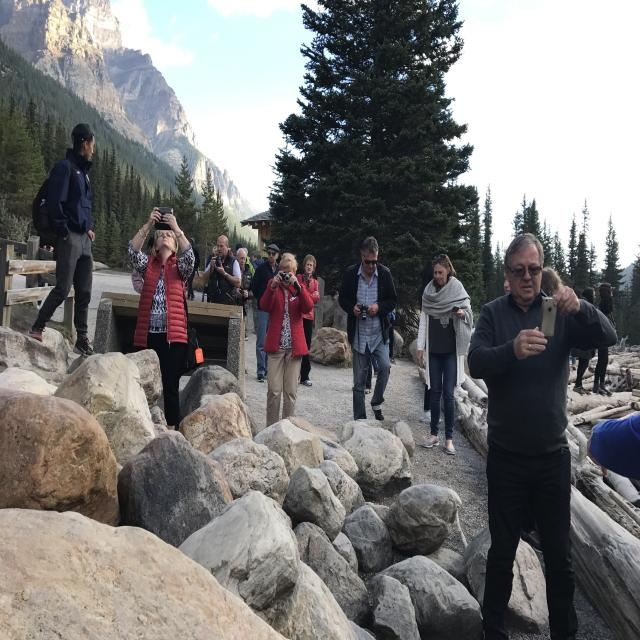body: (466, 231, 620, 640), (28, 122, 98, 360), (127, 205, 195, 431), (415, 253, 475, 457), (337, 236, 399, 421), (259, 252, 314, 430), (412, 252, 446, 426), (584, 406, 640, 491), (251, 243, 280, 383), (296, 253, 320, 387), (202, 234, 242, 306), (592, 282, 617, 396), (496, 266, 578, 299), (572, 287, 596, 395), (236, 248, 254, 374), (132, 234, 160, 297), (36, 231, 56, 307), (221, 240, 256, 276), (251, 250, 265, 336), (519, 523, 545, 563), (187, 237, 200, 301), (387, 304, 398, 365), (364, 349, 378, 395), (205, 246, 218, 270), (233, 242, 243, 258)
